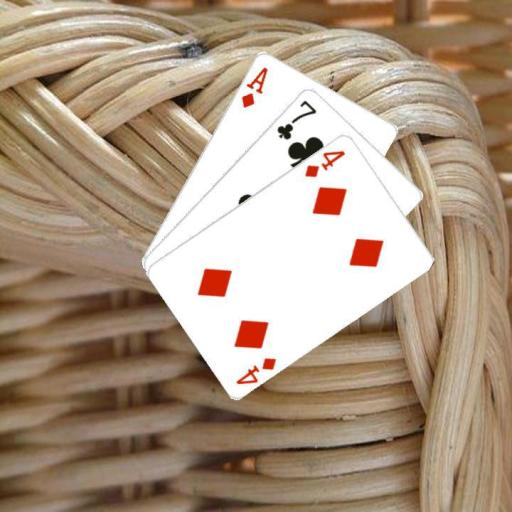4D: (302, 147, 347, 179), (233, 354, 278, 386)
7C: (273, 96, 318, 142)
AD: (238, 63, 270, 109)
